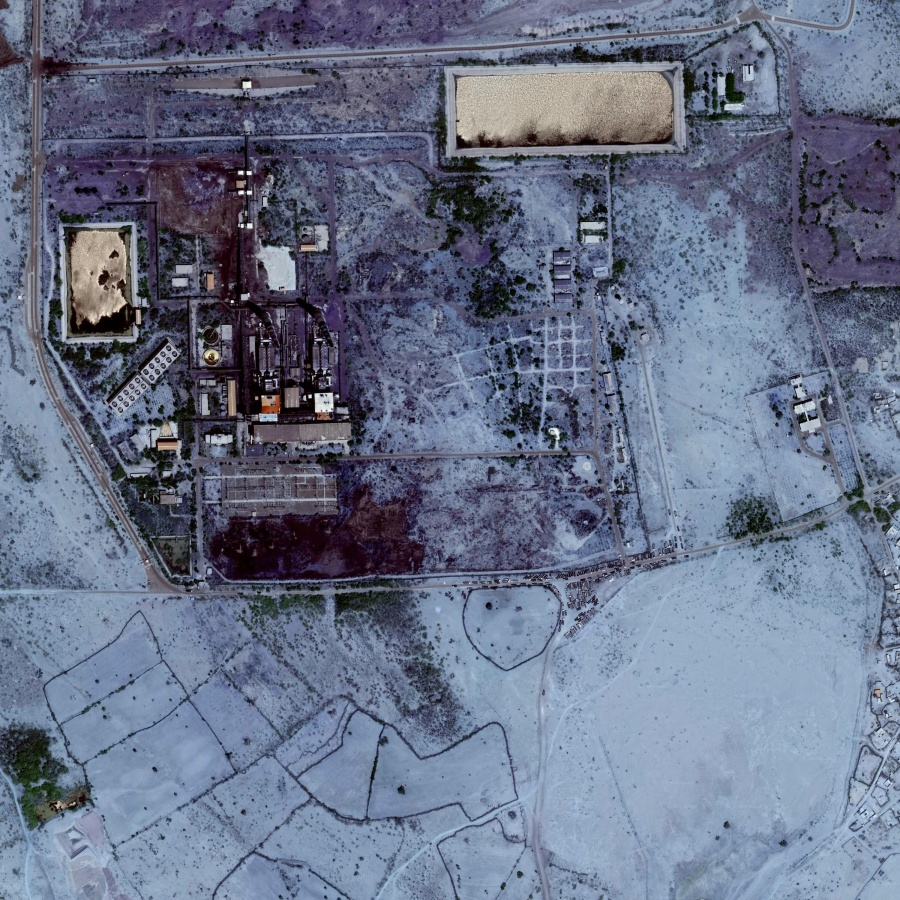PowerPlant: (46, 139, 417, 577)
